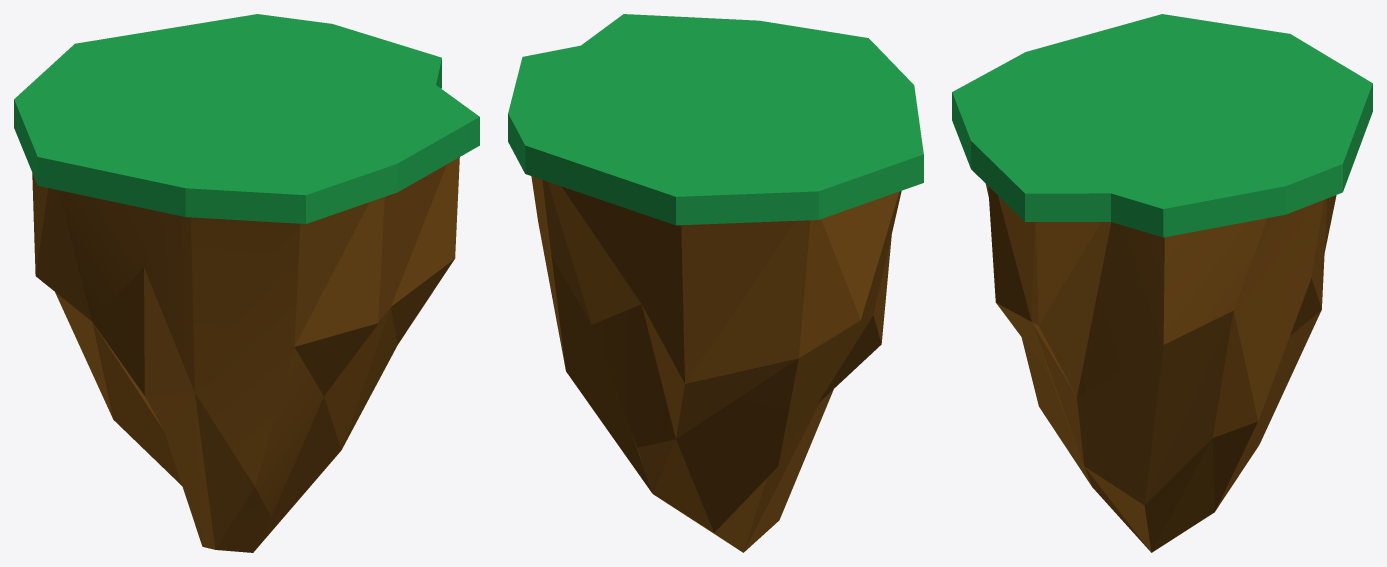
The model's file is Island.fbx.
3 renders of one model, left to right at view 1: azimuth 30°, elevation 25°; view 2: azimuth 150°, elevation 25°; view 3: azimuth 270°, elevation 25°, orthographic.
Visible parts, largest first — view 1: Island; view 2: Island; view 3: Island.
Part boxes in pixels (x1,y1,x2,y2): Island: [14, 14, 479, 552]; Island: [508, 14, 923, 552]; Island: [952, 14, 1372, 552].
Size of the model in its own units: 223 by 234 by 203.
